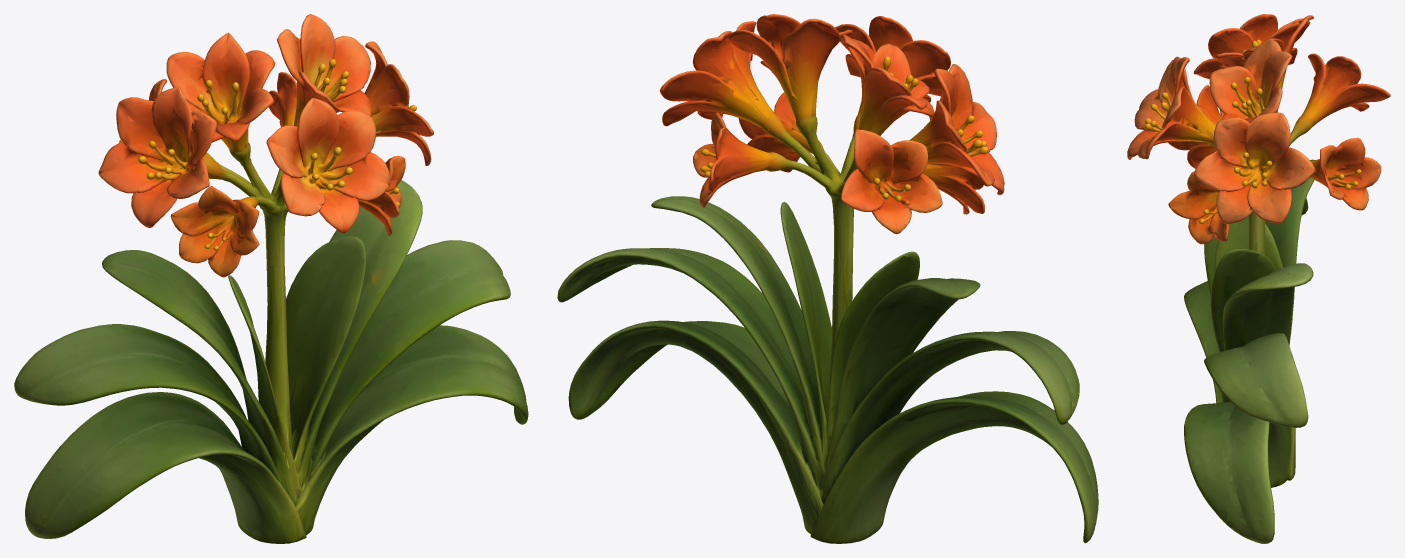
Rendered from clivia.glb.
The picture shows the model from 3 angles, left to right: view 1: azimuth 30°, elevation 25°; view 2: azimuth 150°, elevation 25°; view 3: azimuth 270°, elevation 25°; orthographic projection. The views are drawn at different scales.
Parts seen in each view (by area): view 1: tripo_node_0d73cf29; view 2: tripo_node_0d73cf29; view 3: tripo_node_0d73cf29.
Part boxes in pixels (x1,y1,x2,y2): tripo_node_0d73cf29: [14, 14, 528, 543]; tripo_node_0d73cf29: [557, 14, 1098, 543]; tripo_node_0d73cf29: [1127, 14, 1390, 543].
Size of the model in its own units: 1.38 by 1.3 by 0.6972.
1 material, 1 textured.
